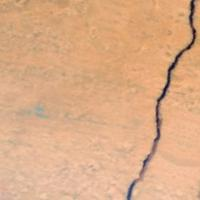crack: (119, 0, 199, 199)
